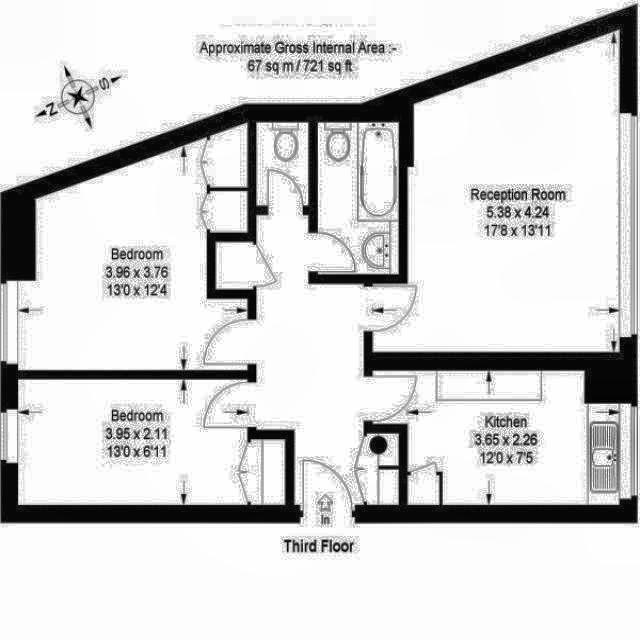room: (370, 31, 620, 352), (202, 195, 415, 534), (17, 122, 248, 370), (18, 379, 285, 505), (373, 370, 619, 505), (318, 122, 398, 273), (257, 123, 308, 205)
